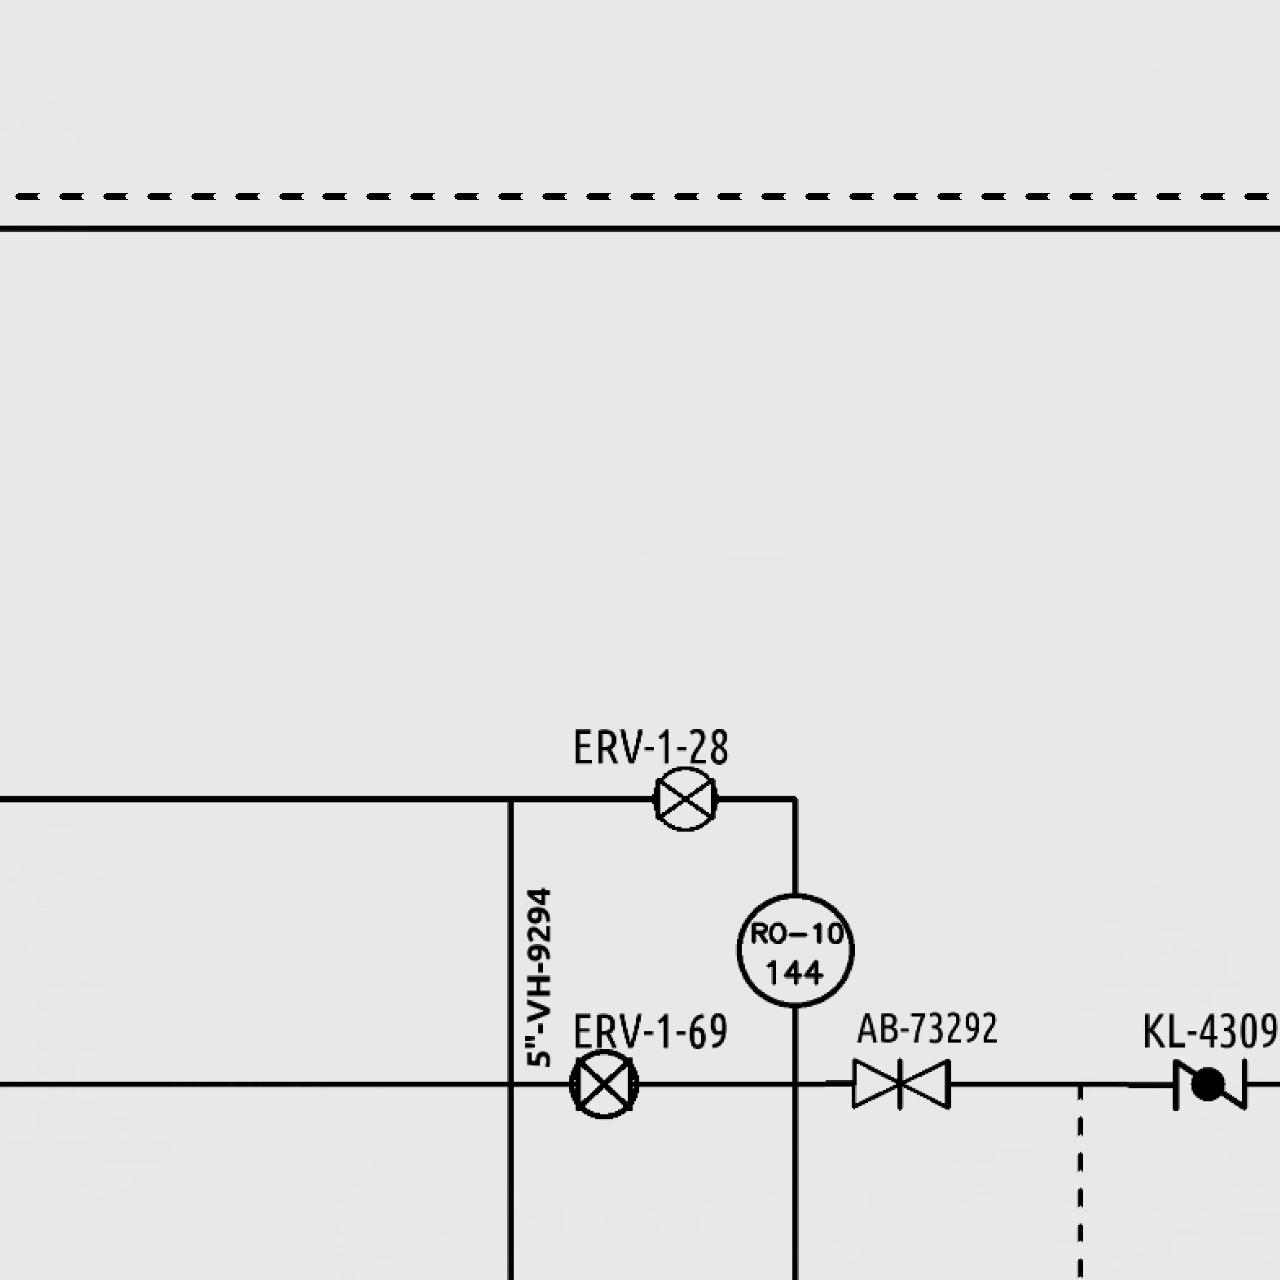Control-Panel: (731, 886, 857, 1013)
